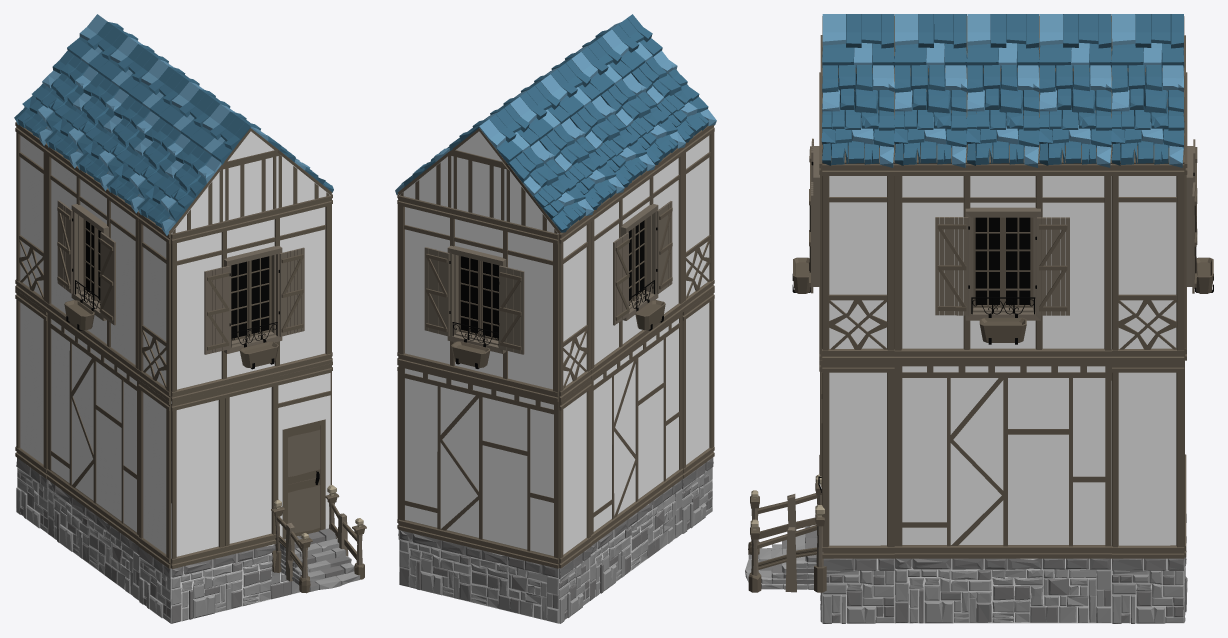
File: house_08_full.glb
3 renders of one model, left to right at view 1: azimuth 30°, elevation 25°; view 2: azimuth 150°, elevation 25°; view 3: azimuth 270°, elevation 25°, orthographic. The views are drawn at different scales.
Parts seen in each view (by area): view 1: WINDOW_05_2, WINDOW_05_4, WALL_05_2, WALL_03_4, WALL_03_3, DOOR_01_3, FOUNDATION_02_16, STAIRS_06_2, WALL_04_6, WALL_03_5, WALL_03_6, WALL_04_5 (+18 smaller); view 2: WINDOW_05_5, WALL_05_3, WINDOW_05_4, WALL_05_2, FOUNDATION_02_18, WALL_04_5, WALL_03_6, WALL_03_5, WALL_04_6, FOUNDATION_02_19, ROOF_base_12, ROOF_base_11 (+15 smaller); view 3: WINDOW_05_3, WALL_05_4, WALL_04_4, WALL_04_3, FOUNDATION_02_17, WALL_03_8, WALL_03_7, ROOF_base_7, ROOF_base_3, ROOF_base_6, ROOF_base_4, ROOF_base_5 (+10 smaller).
Boxes of the visible parts, x1=… form: WINDOW_05_2: x1=171, y1=195, x2=331, y2=401; WINDOW_05_4: x1=46, y1=144, x2=139, y2=378; WALL_05_2: x1=46, y1=313, x2=139, y2=545; WALL_03_4: x1=171, y1=389, x2=225, y2=568; WALL_03_3: x1=224, y1=376, x2=278, y2=555; DOOR_01_3: x1=278, y1=363, x2=331, y2=539; FOUNDATION_02_16: x1=171, y1=544, x2=300, y2=623; STAIRS_06_2: x1=271, y1=485, x2=366, y2=593; WALL_04_6: x1=138, y1=212, x2=170, y2=401; WALL_03_5: x1=138, y1=379, x2=170, y2=568; WALL_03_6: x1=15, y1=289, x2=47, y2=478; WALL_04_5: x1=15, y1=122, x2=47, y2=311; WINDOW_05_5: x1=398, y1=195, x2=558, y2=401; WALL_05_3: x1=398, y1=363, x2=558, y2=568; WINDOW_05_4: x1=590, y1=147, x2=683, y2=378; WALL_05_2: x1=590, y1=313, x2=683, y2=545; FOUNDATION_02_18: x1=399, y1=530, x2=559, y2=623; WALL_04_5: x1=559, y1=215, x2=591, y2=401; WALL_03_6: x1=559, y1=379, x2=591, y2=568; WALL_03_5: x1=682, y1=289, x2=714, y2=478; WALL_04_6: x1=682, y1=125, x2=714, y2=311; FOUNDATION_02_19: x1=589, y1=480, x2=682, y2=600; ROOF_base_12: x1=506, y1=140, x2=593, y2=233; ROOF_base_11: x1=539, y1=118, x2=624, y2=209; WINDOW_05_3: x1=894, y1=164, x2=1111, y2=361; WALL_05_4: x1=894, y1=362, x2=1111, y2=558; WALL_04_4: x1=1112, y1=164, x2=1184, y2=361; WALL_04_3: x1=822, y1=164, x2=894, y2=361; FOUNDATION_02_17: x1=894, y1=558, x2=1111, y2=623; WALL_03_8: x1=1112, y1=362, x2=1184, y2=558; WALL_03_7: x1=822, y1=362, x2=894, y2=558; ROOF_base_7: x1=1111, y1=63, x2=1184, y2=167; ROOF_base_3: x1=821, y1=65, x2=894, y2=167; ROOF_base_6: x1=1038, y1=65, x2=1111, y2=167; ROOF_base_4: x1=894, y1=65, x2=967, y2=167; ROOF_base_5: x1=966, y1=65, x2=1039, y2=167.
Size of the model in its own units: 3.82 by 8.59 by 6.48.
1 material, 1 textured.
